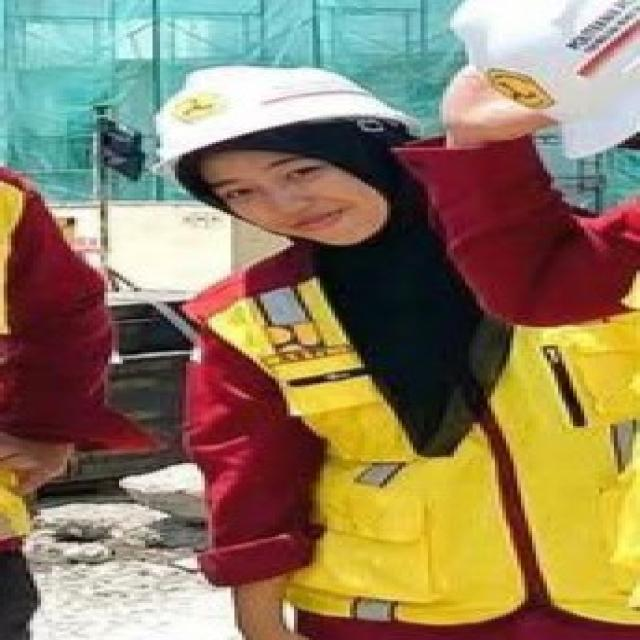safetyhelmet: (144, 51, 447, 250)
